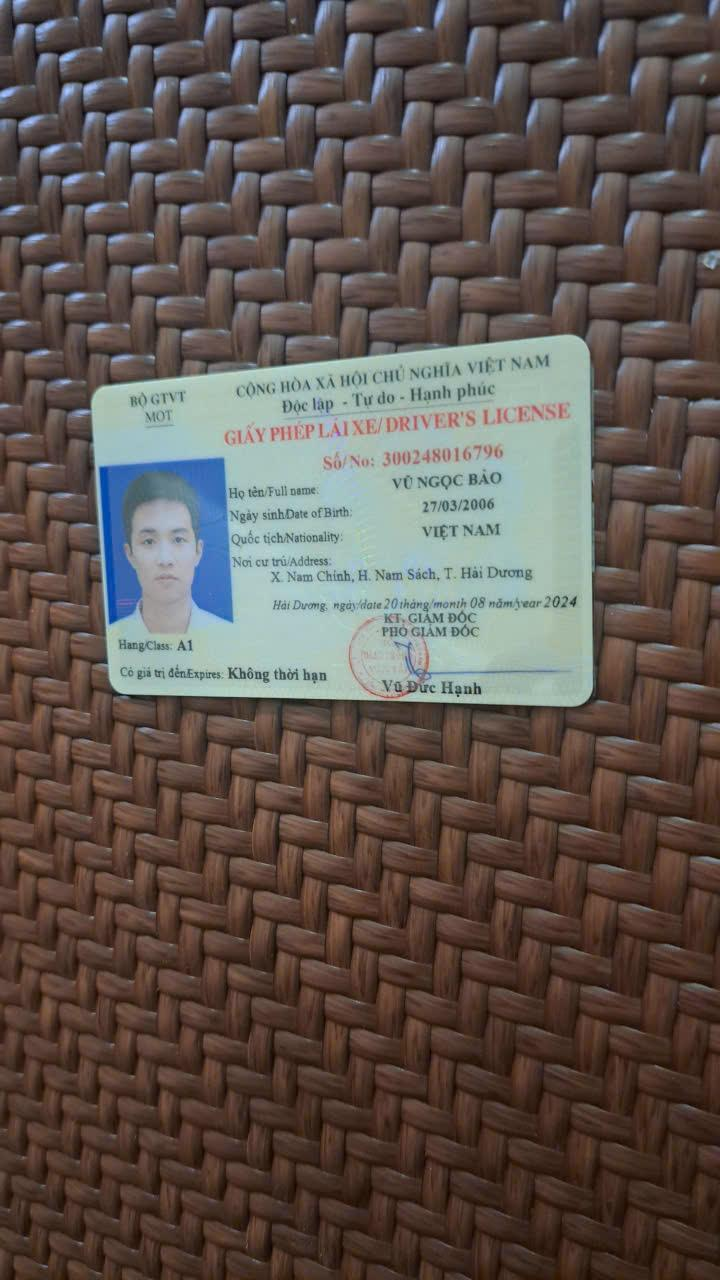gplx: (84, 329, 600, 718)
